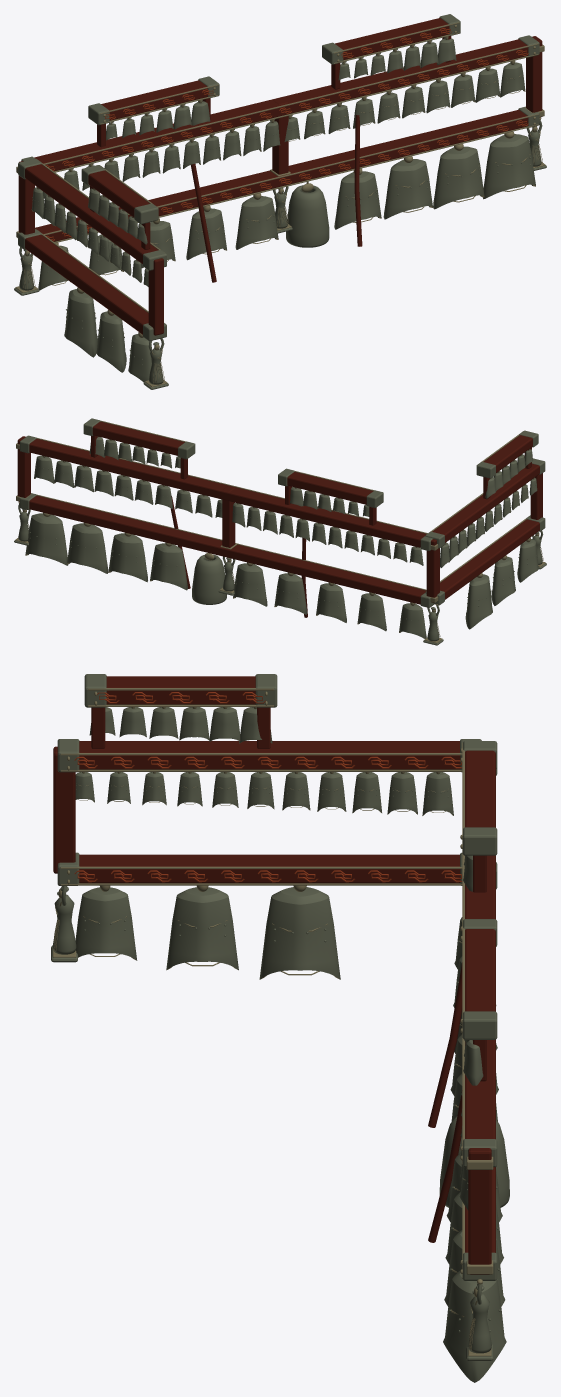
The picture shows the model from 3 angles, top to bottom: view 1: azimuth 30°, elevation 25°; view 2: azimuth 150°, elevation 25°; view 3: azimuth 270°, elevation 25°; orthographic projection. The views are drawn at different scales.
Parts seen in each view (by area): view 1: WEB_A01; view 2: WEB_A01; view 3: WEB_A01.
Boxes of the visible parts, x1,y1,x2,y2 form: WEB_A01: [14, 14, 546, 389]; WEB_A01: [14, 418, 546, 645]; WEB_A01: [51, 674, 509, 1382].
Size of the model in its own units: 7.83 by 2.71 by 3.62.
